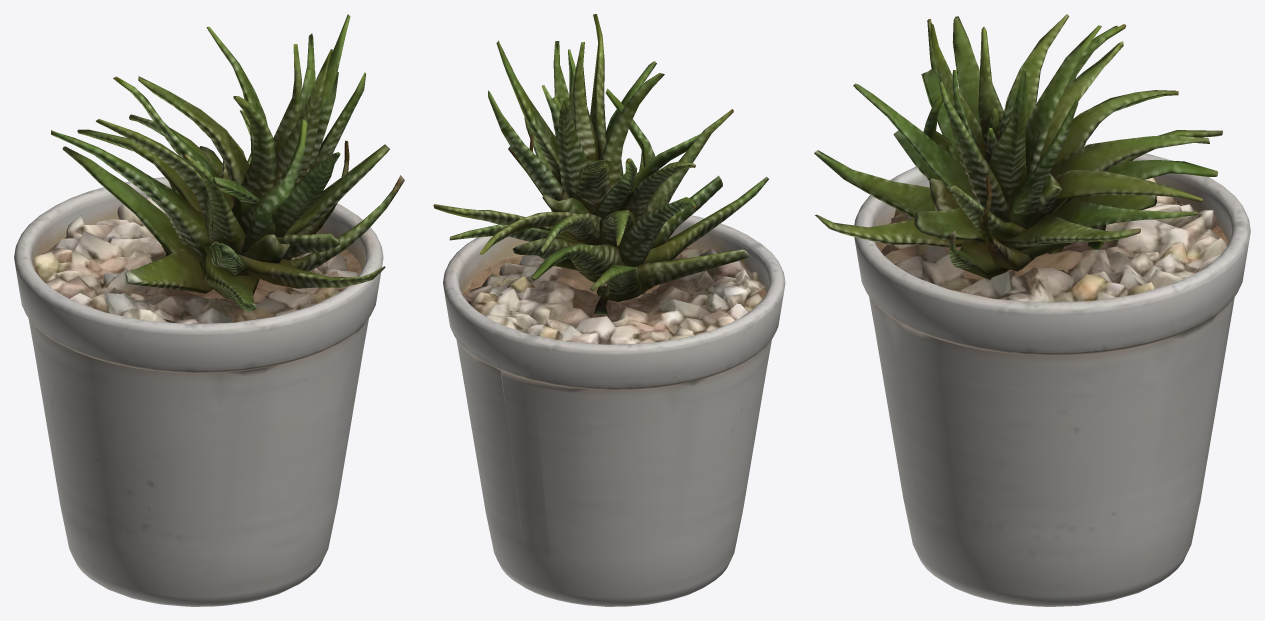
The model's file is potted_plant_04.glb.
3 views of the same model, side by side, from view 1: azimuth 30°, elevation 25°; view 2: azimuth 150°, elevation 25°; view 3: azimuth 270°, elevation 25° (orthographic). The views are drawn at different scales.
Parts seen in each view (by area): view 1: potted_plant_04_ground; view 2: potted_plant_04_ground; view 3: potted_plant_04_ground.
Boxes of the visible parts, x1,y1,x2,y2 form: potted_plant_04_ground: [14, 14, 404, 606]; potted_plant_04_ground: [433, 14, 785, 606]; potted_plant_04_ground: [814, 14, 1250, 606].
Bounding box in the file's own units: 0.168 × 0.2673 × 0.1846.
1 material, 1 textured.
